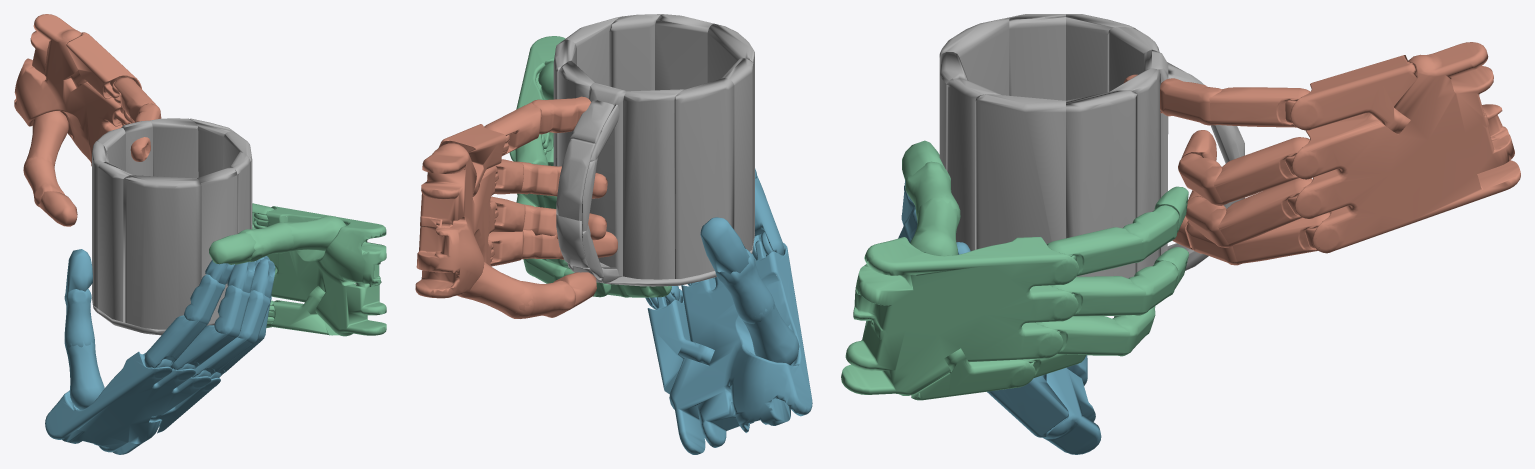
3 renders of one model, left to right at view 1: azimuth 30°, elevation 25°; view 2: azimuth 150°, elevation 25°; view 3: azimuth 270°, elevation 25°, orthographic. The views are drawn at different scales.
Size of the model in its own units: 0.2301 by 0.2526 by 0.3436.
